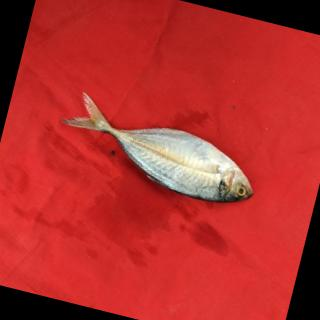Ikan: (62, 91, 274, 219)
